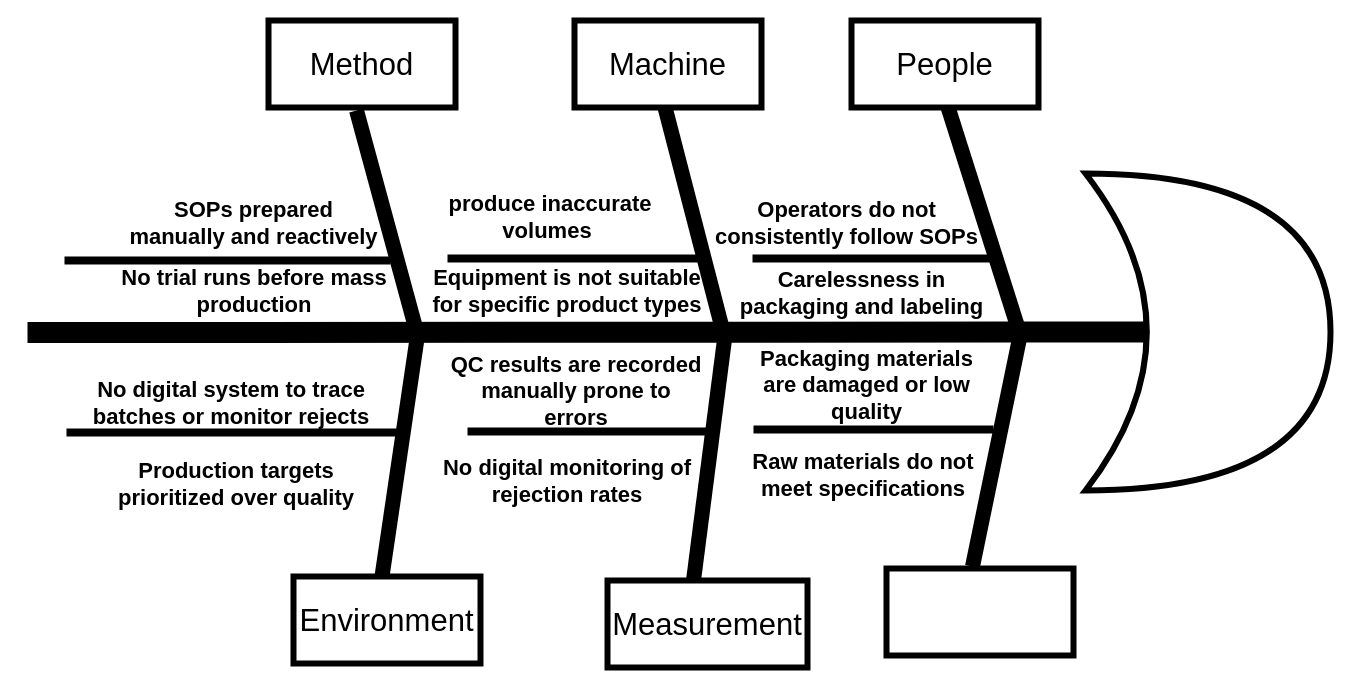
Image size: 1351x687. Some labels were removed from this diagram. Here are the shapes that lost their labels. From the top down, the box of each, then its label:
(1082, 170, 1333, 493): High product rejection rate
(883, 565, 1076, 658): Material
